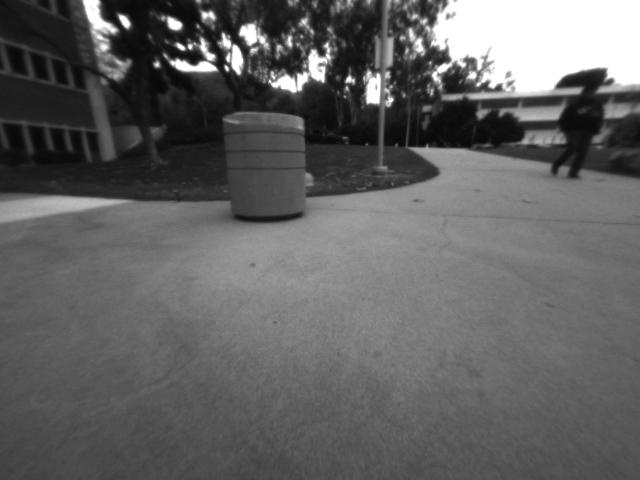trashcan: (217, 102, 310, 225)
